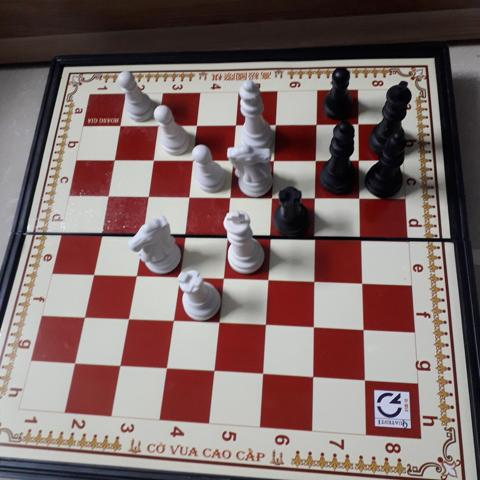xcorner: (351, 116, 368, 133), (228, 117, 245, 134), (189, 117, 206, 134), (150, 117, 167, 134), (112, 118, 129, 135), (352, 152, 369, 169), (225, 151, 242, 168), (184, 151, 201, 168), (353, 190, 370, 207), (308, 189, 325, 206), (222, 188, 239, 205), (180, 188, 197, 205), (139, 187, 156, 204), (354, 230, 371, 247), (308, 229, 325, 246), (262, 228, 279, 245), (218, 227, 235, 244), (175, 226, 192, 243), (91, 225, 108, 242), (355, 274, 372, 291), (307, 272, 324, 289), (260, 271, 277, 288), (214, 269, 231, 286), (170, 268, 187, 285), (83, 265, 100, 282), (306, 318, 323, 335), (258, 316, 275, 333), (210, 314, 227, 331), (164, 312, 181, 329), (119, 310, 136, 327), (75, 308, 92, 325), (357, 371, 374, 388), (255, 365, 272, 382), (158, 360, 175, 377), (111, 357, 128, 374), (66, 355, 83, 372), (310, 116, 326, 133), (268, 117, 285, 133), (309, 152, 326, 168), (145, 151, 161, 168), (106, 151, 122, 168), (265, 189, 281, 206), (99, 187, 115, 204), (126, 267, 143, 283), (356, 321, 373, 337), (306, 368, 322, 385), (206, 363, 223, 379), (267, 152, 283, 168), (133, 226, 149, 242)
